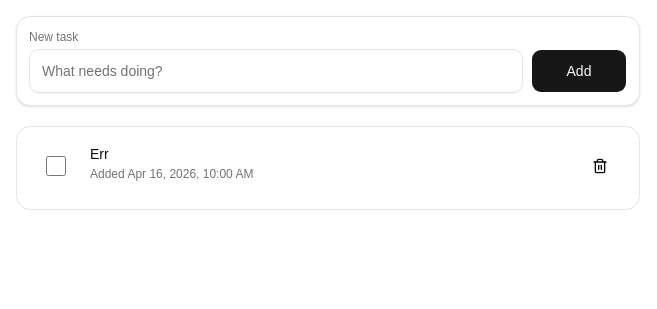
Test case: TodoApp › rolls back toggle when PATCH fails and shows retry
This screenshot has width=657, height=309.
Expected: the text "Err" is shown, [90, 146, 109, 162]
Click the checkbox labelled "Err Added Apr 16, 2026, 10:00 AM" at [56, 166], box [46, 156, 66, 176]
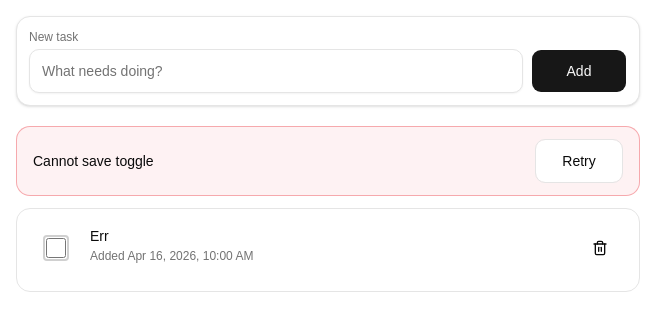
Expected: the checkbox labelled "Err Added Apr 16, 2026, 10:00 AM" is not checked, [46, 238, 66, 258]
Result: the message shows "Cannot save toggle" at [33, 153, 154, 169]
